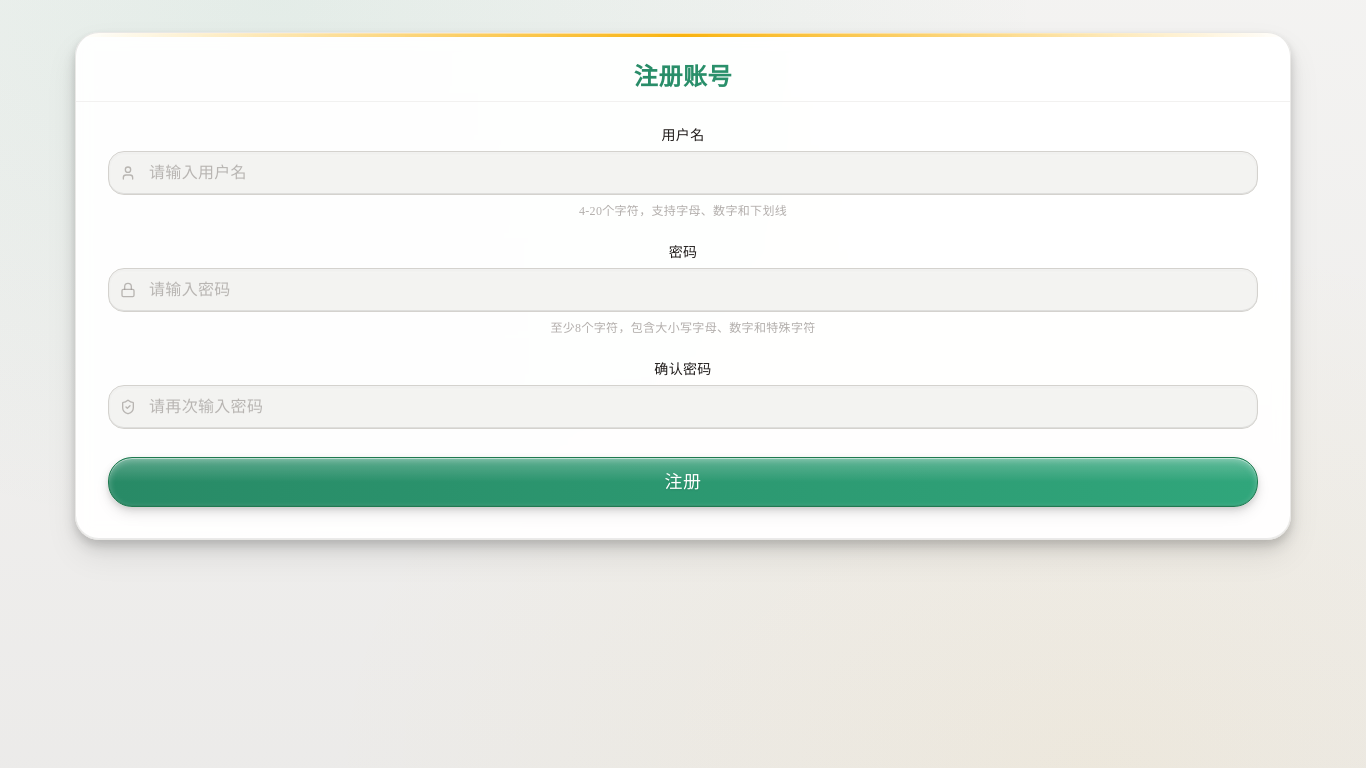
it: RegisterForm › shows validation errors for empty fields
Click the button "注册" at (683, 482), box [108,457,1258,507]
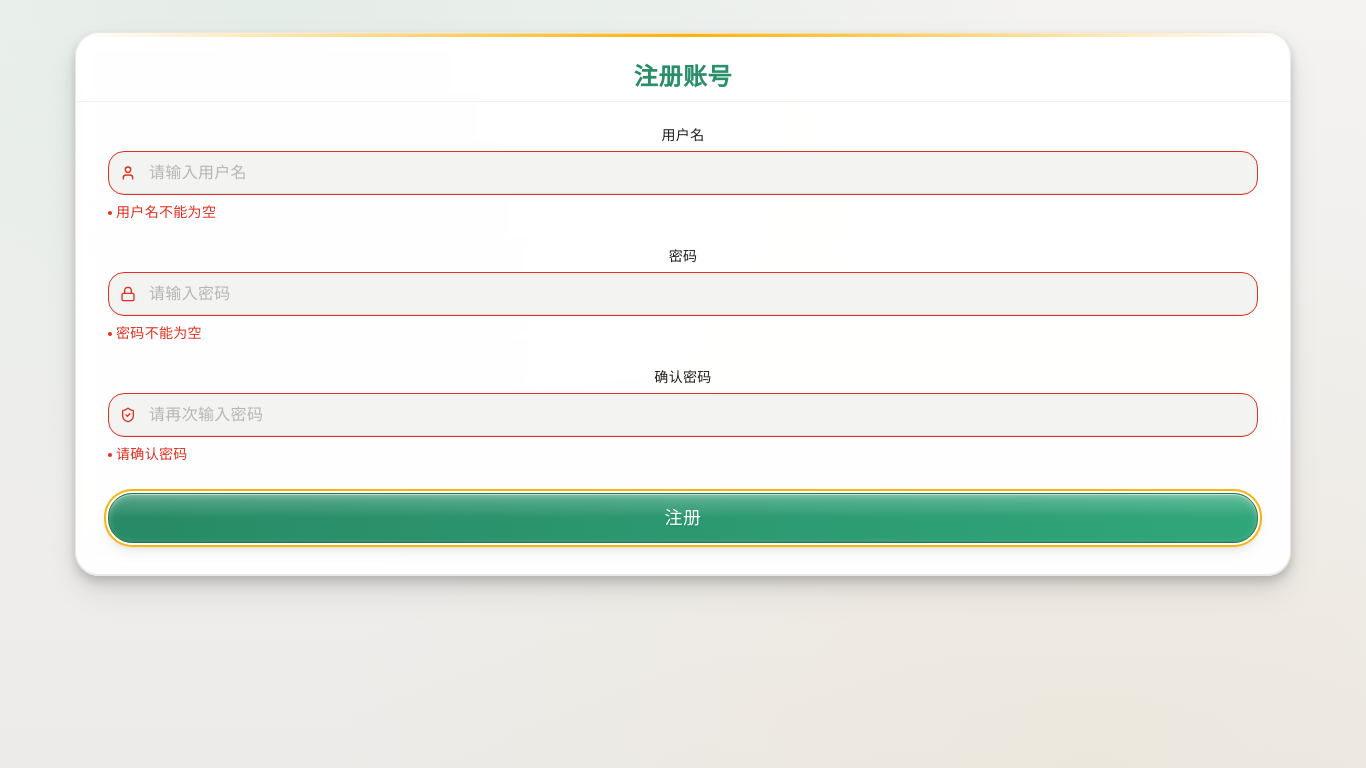
Now the text "用户名不能为空" is shown, box [108,205,216,220]
Now the text "密码不能为空" is shown, box [108,326,202,341]
Now the text "请确认密码" is shown, box [108,447,188,462]
